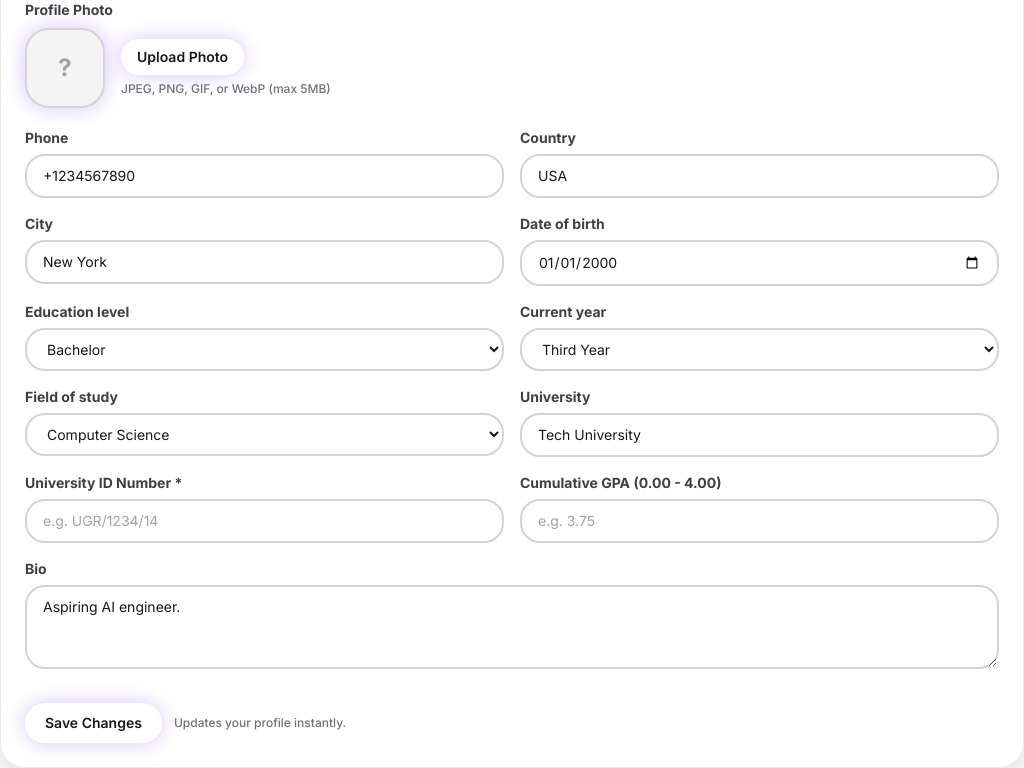
Test: PersonalEducationSection › renders exact DRF field validation messages
The width and height of the screenshot is (1024, 768).
(page scrolled)
Expected: the field showing "Tech University" is shown, [520,413,999,457]
What coordinates should you click on to do the following:
click the button "Save Changes"
I would click on:
 (93, 723)
Its box is [25,703,162,743].
(page scrolled)
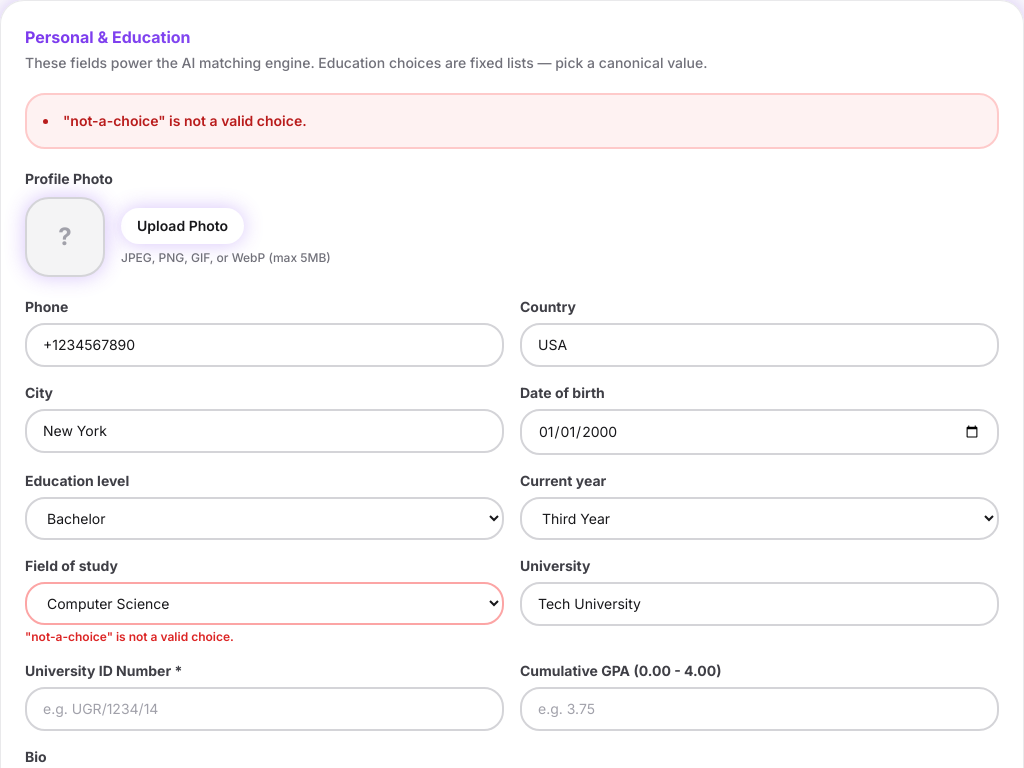
Expected: the list item "\"not-a-choice\" is not a valid choice." is shown, [63,112,307,129]
